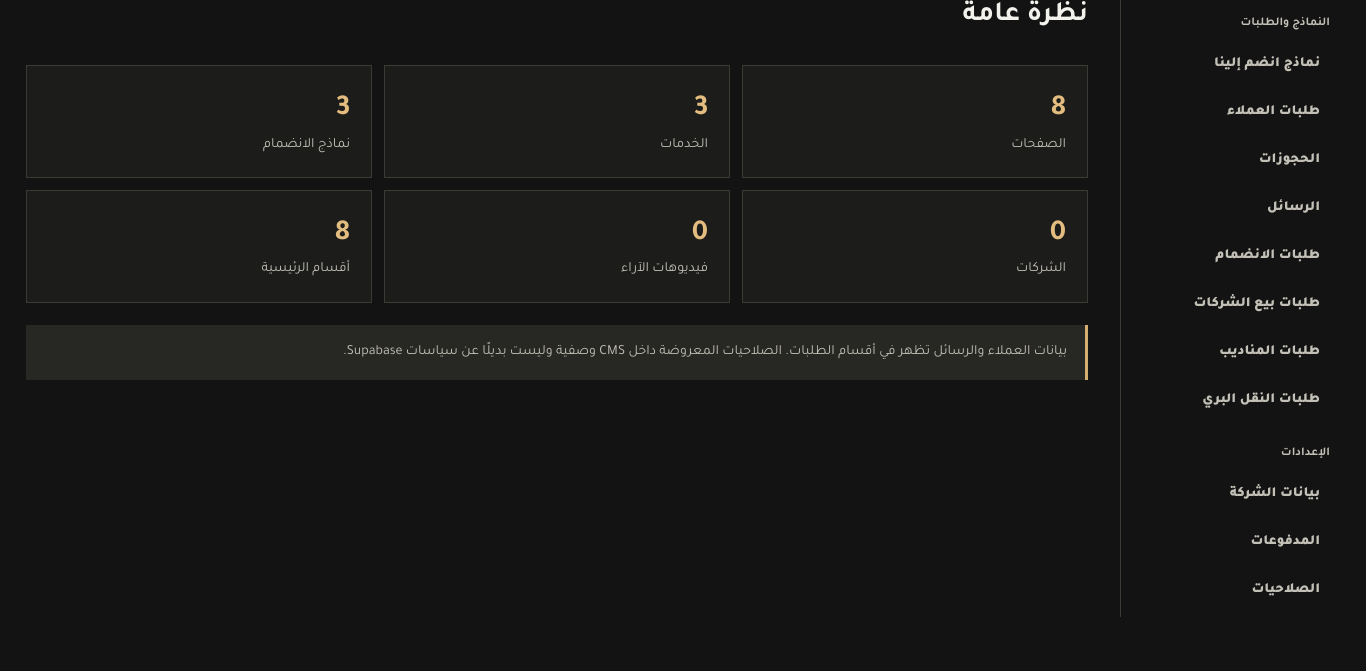
form submissions in the dashboard › loads every submitted field and document into the correct dashboard section
The image size is (1366, 671).
(page scrolled)
Click the button "طلبات بيع الشركات": (1239, 304) [1138,282,1340,326]
(page scrolled)
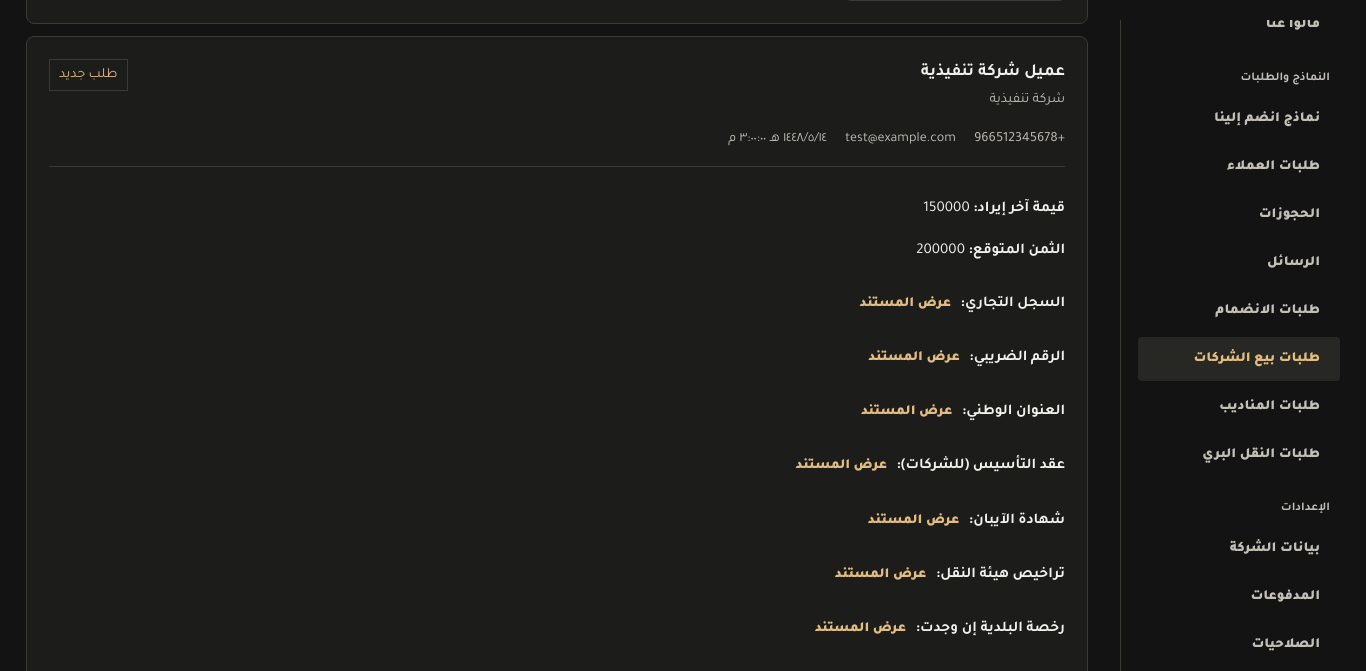
Expected: the number of buttons "عرض المستند" is 18
Click the button "عرض المستند" next to "السجل التجاري": (905, 304) [854,291,957,318]
(page scrolled)
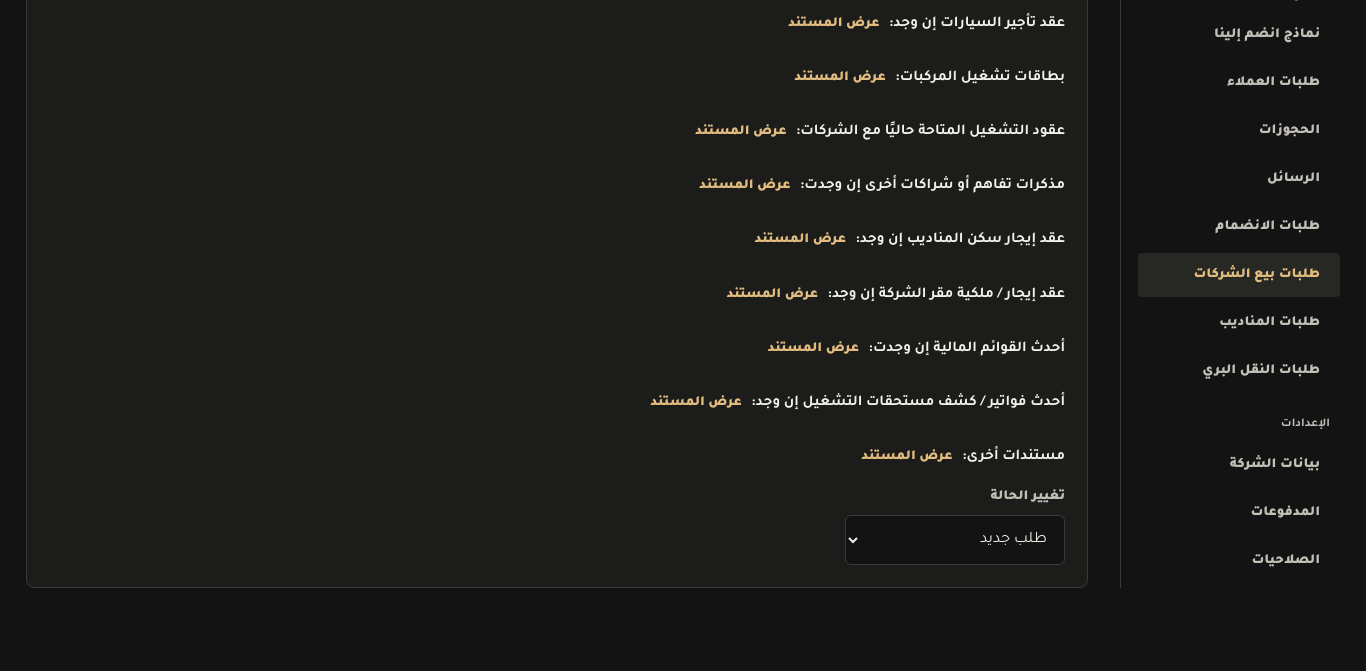
Select "مؤكد" in the dropdown labelled "تغيير الحالة": (955, 540) [845,515,1065,565]
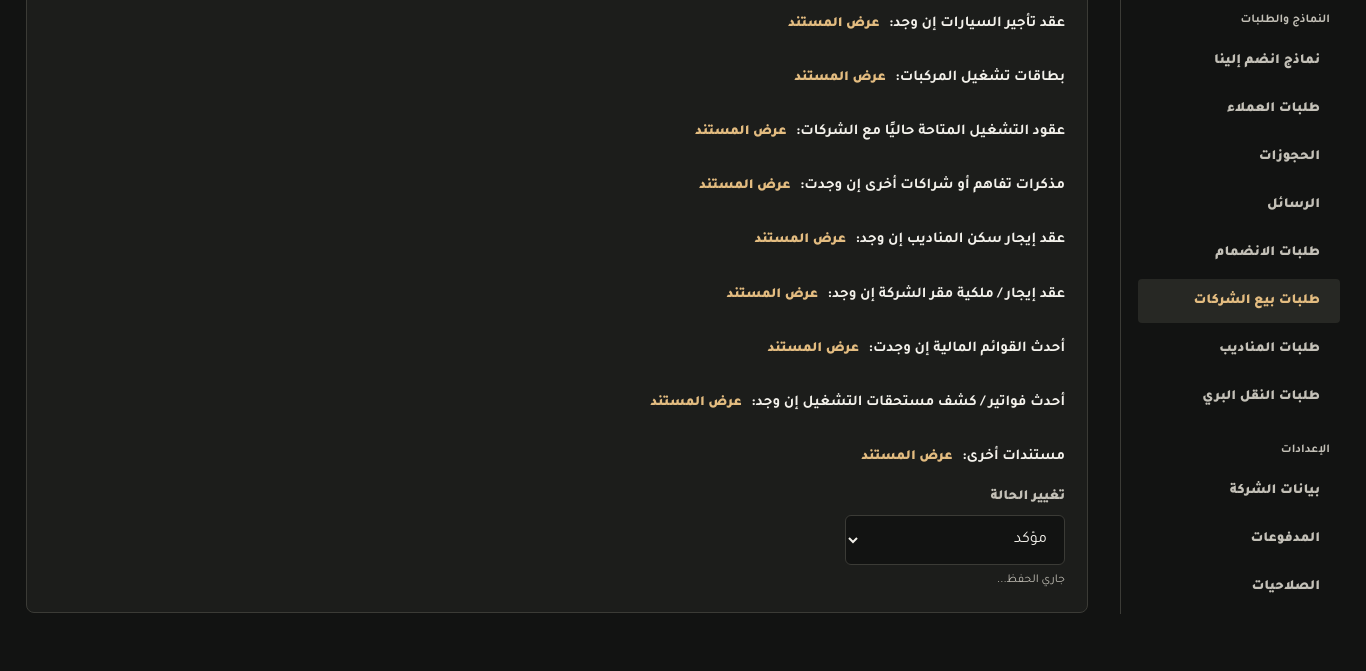
Click the button "طلبات المناديب": (1239, 349) [1138,327,1340,371]
(page scrolled)
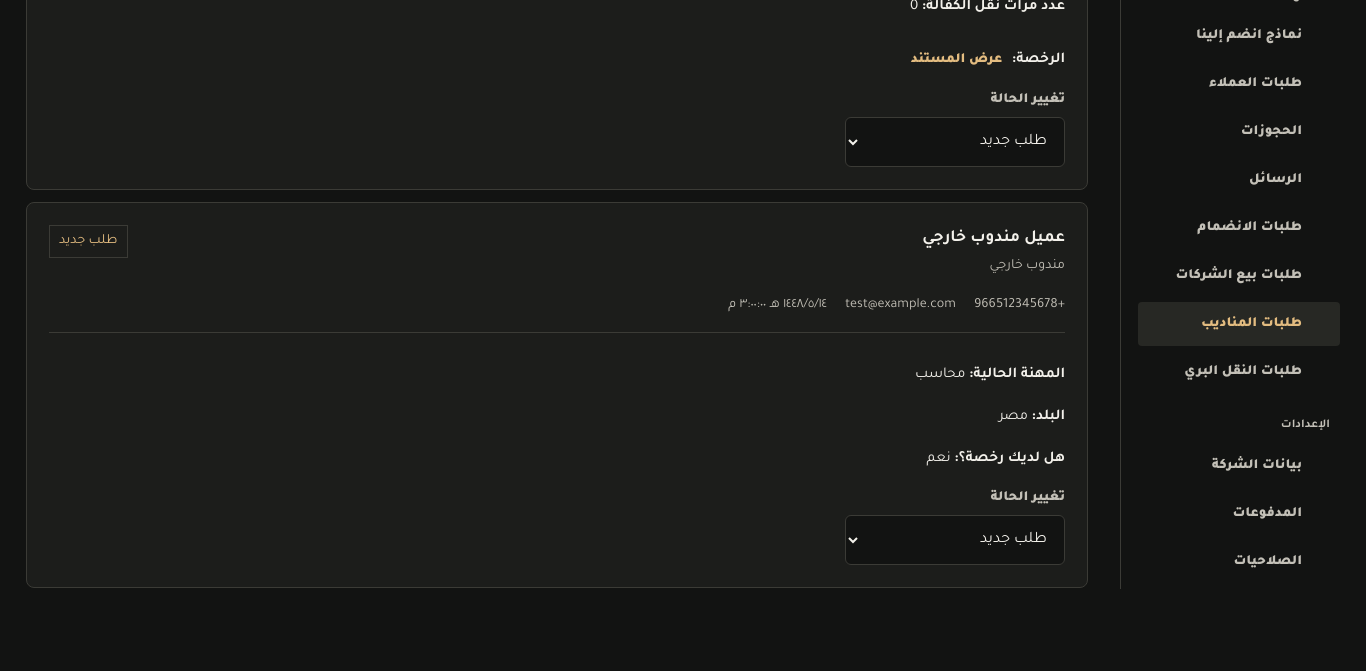
Expected: the text "مندوب خارجي" is shown, [990,259,1065,273]
Expected: the text "محاسب" is shown, [915,367,966,382]
Click the button "طلبات الانضمام": (1239, 228) [1138,206,1340,250]
(page scrolled)
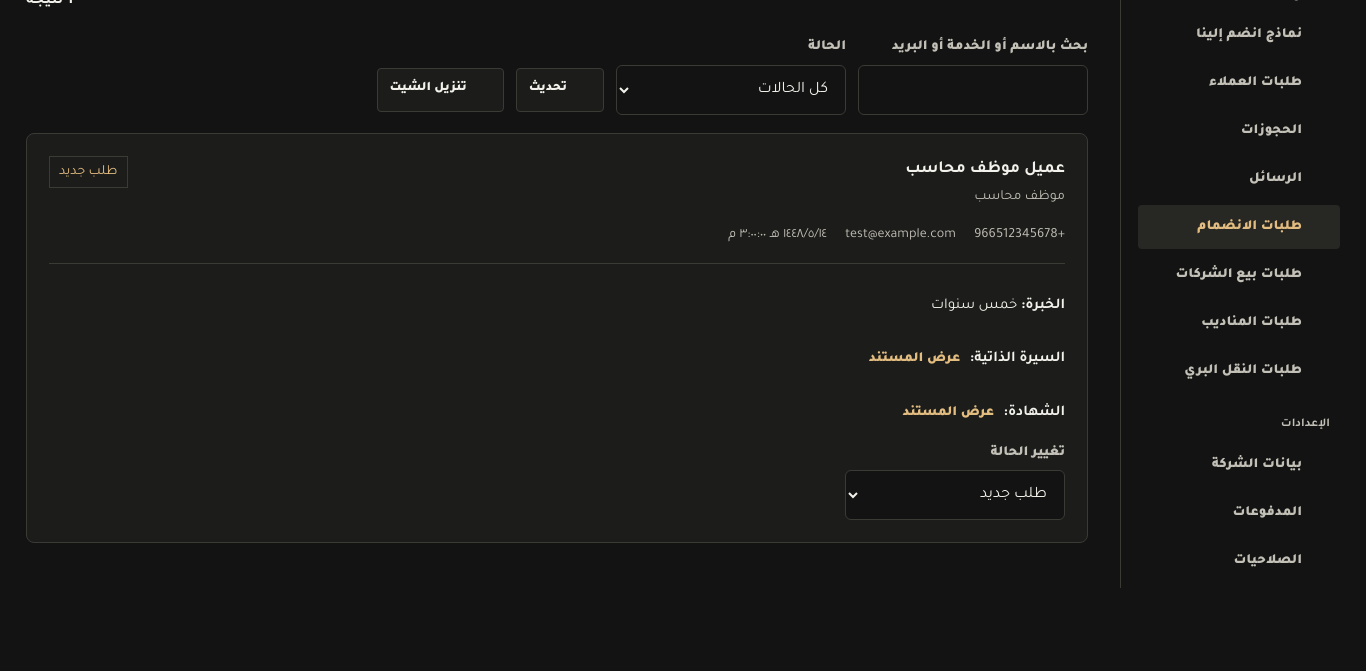
Expected: the text "موظف محاسب" is shown, [974,190,1065,204]
Expected: the number of buttons "عرض المستند" is 2, [863,346,966,373]; [896,400,1000,427]
Click the button "طلبات العملاء": (1239, 83) [1138,61,1340,105]
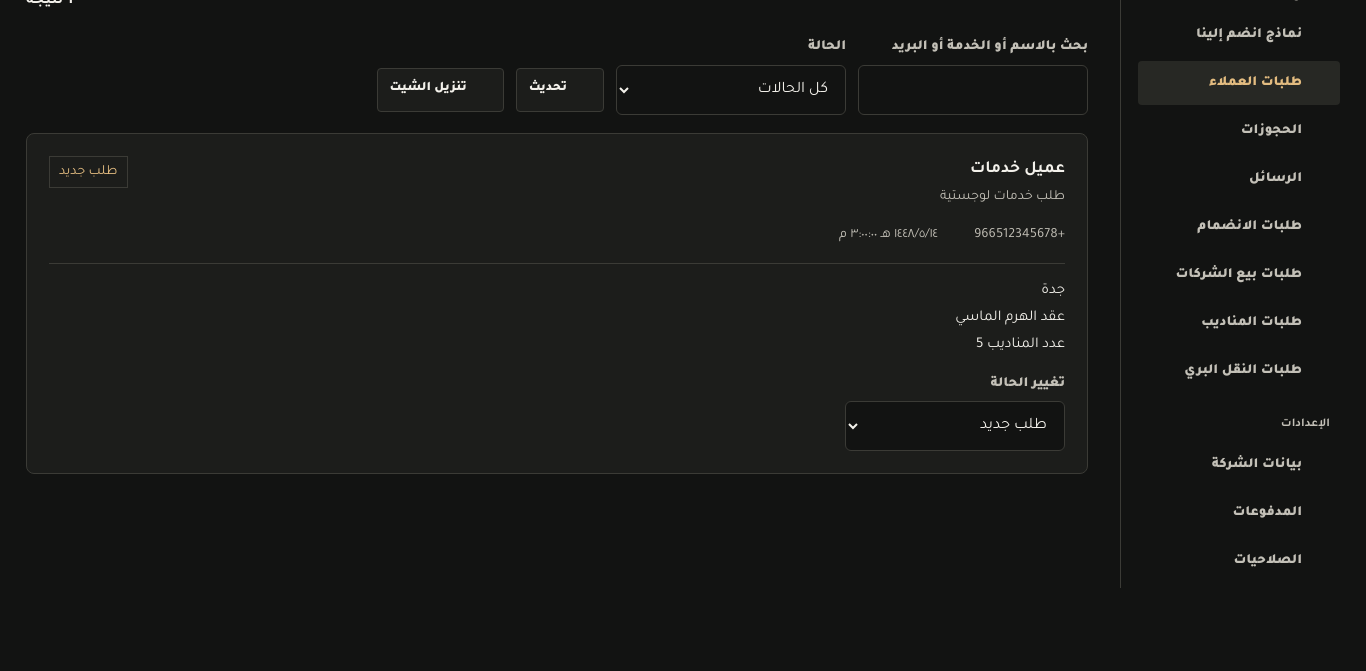
Expected: the text "عميل خدمات" is shown, [970,161,1065,178]
Expected: the text "جدة عقد الهرم الماسي عدد المناديب 5" is shown, [49,262,1065,358]
